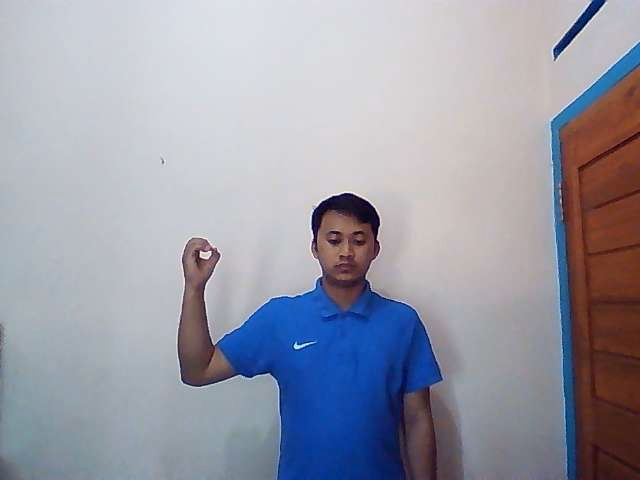O: (180, 235, 221, 287)
